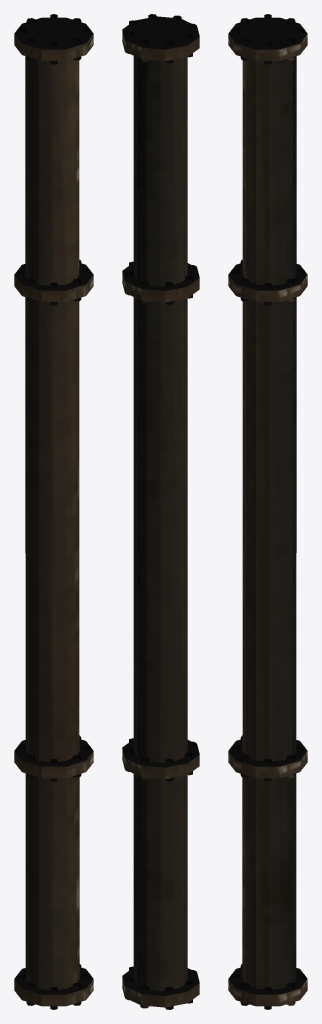
Rendered from Pipes 4.fbx.
3 renders of one model, left to right at view 1: azimuth 90°, elevation 25°; view 2: azimuth 150°, elevation 25°; view 3: azimuth 270°, elevation 25°, orthographic.
Visible parts, largest first — view 1: Pipes 4; view 2: Pipes 4; view 3: Pipes 4.
Part boxes in pixels (bbox=[...]): Pipes 4: bbox=[14, 14, 93, 1009]; Pipes 4: bbox=[122, 14, 199, 1009]; Pipes 4: bbox=[228, 14, 307, 1009].
Size of the model in its own units: 24 by 339 by 25.23.
